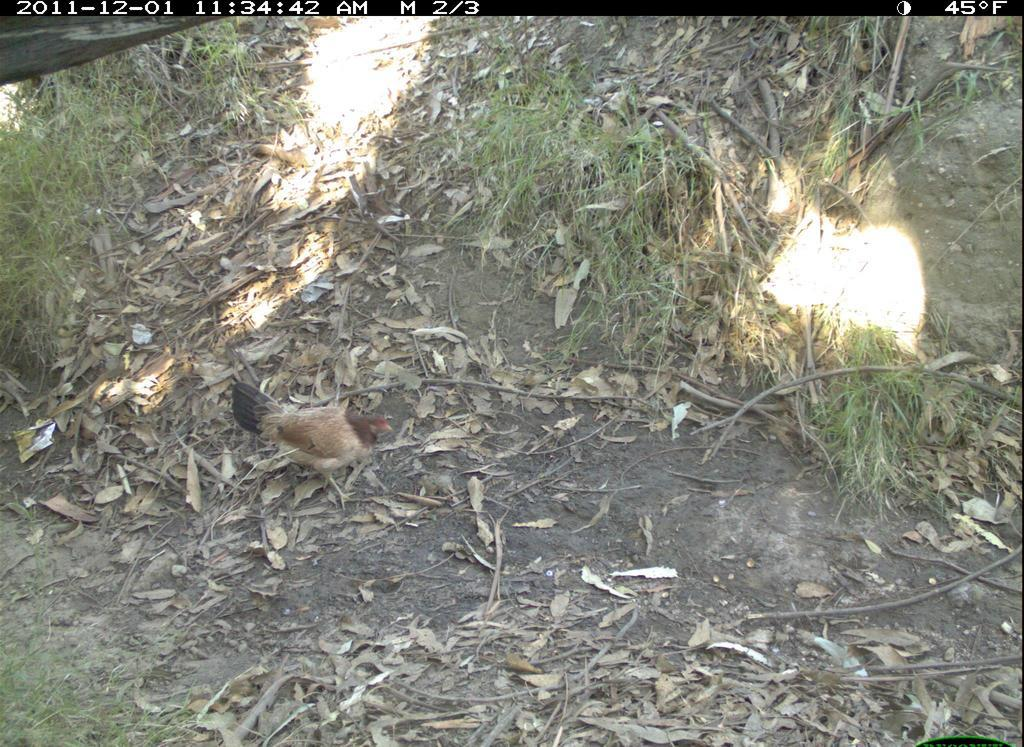bird: (209, 369, 400, 519)
